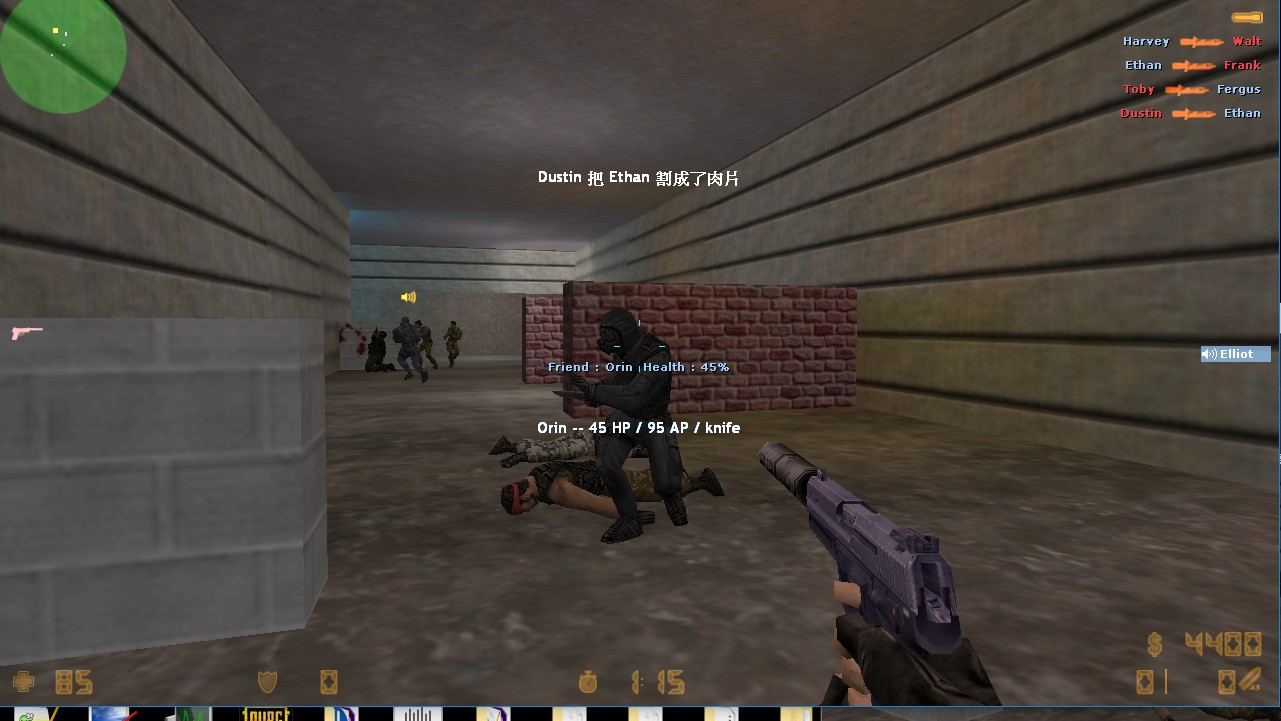person: (577, 309, 698, 544), (390, 315, 430, 385), (363, 327, 397, 376), (413, 318, 441, 371), (441, 317, 466, 371)
